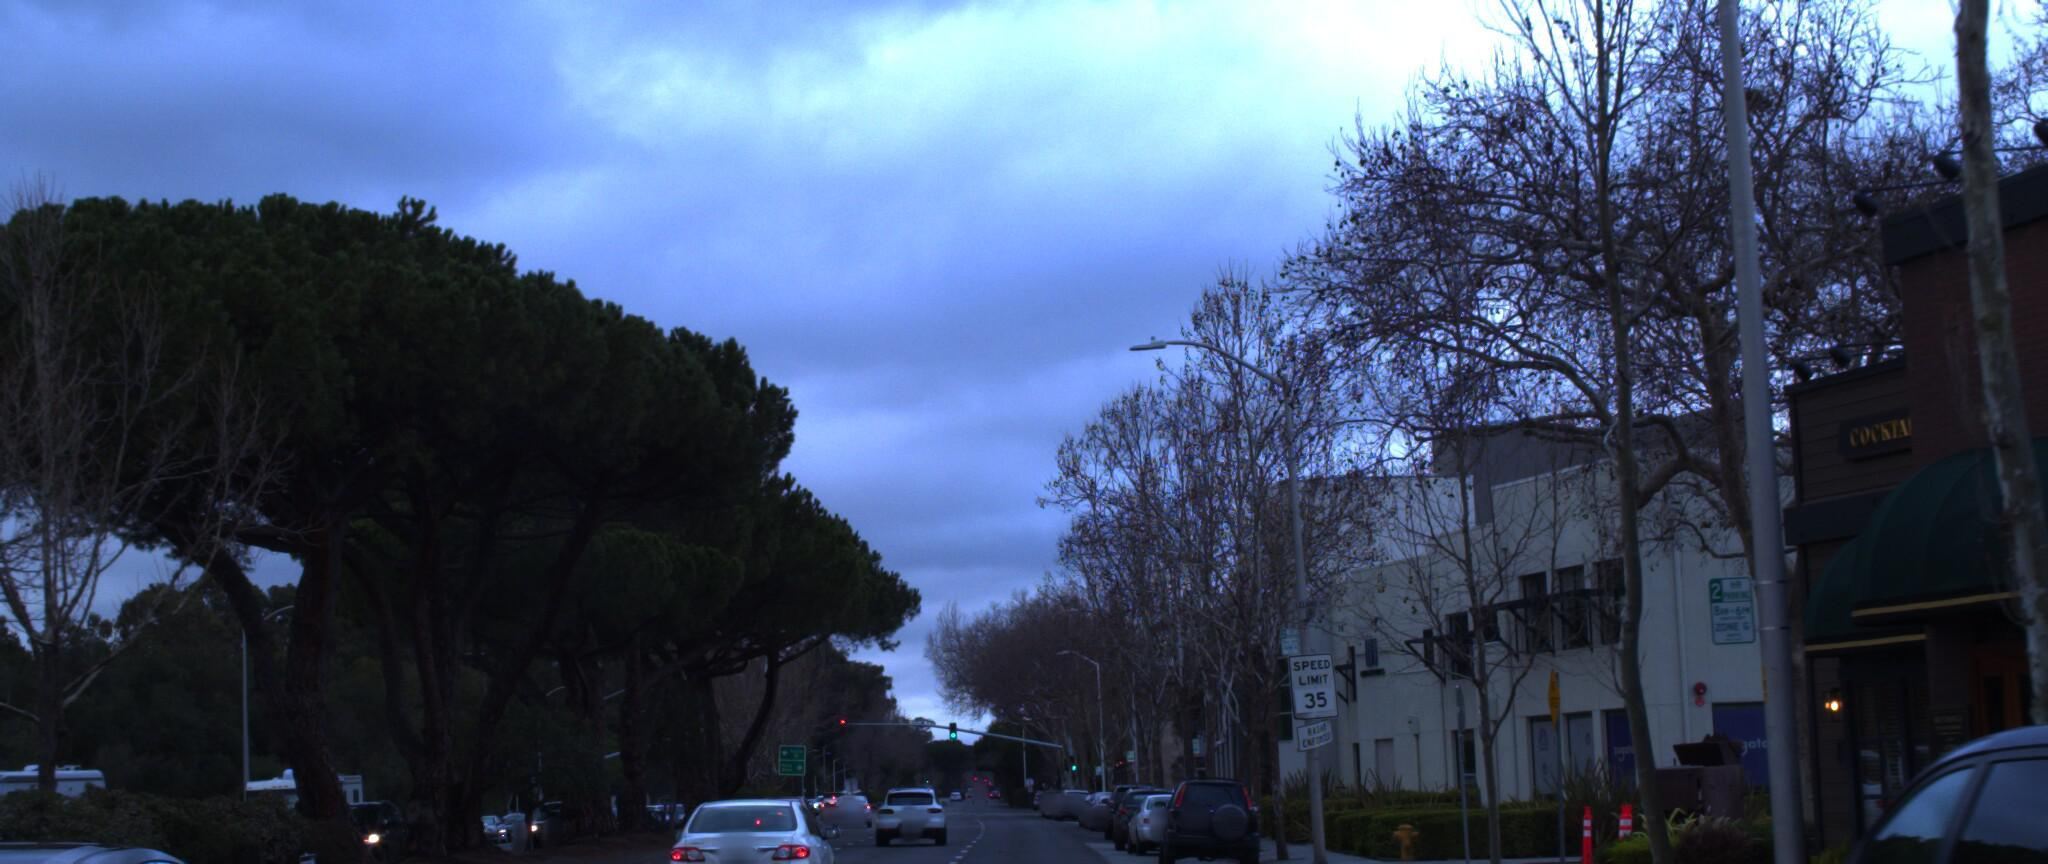car: (1701, 603, 2048, 864), (0, 804, 388, 864), (653, 779, 840, 864), (1152, 761, 1260, 864), (869, 784, 946, 842)
other_vehicle: (0, 743, 118, 864)
